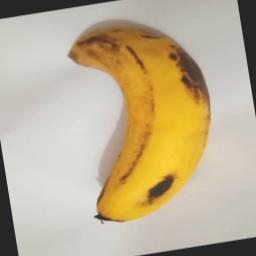Banana Unripe: (62, 13, 228, 227)
